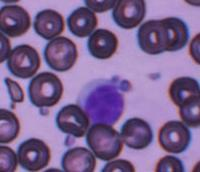L: (77, 76, 126, 124)
